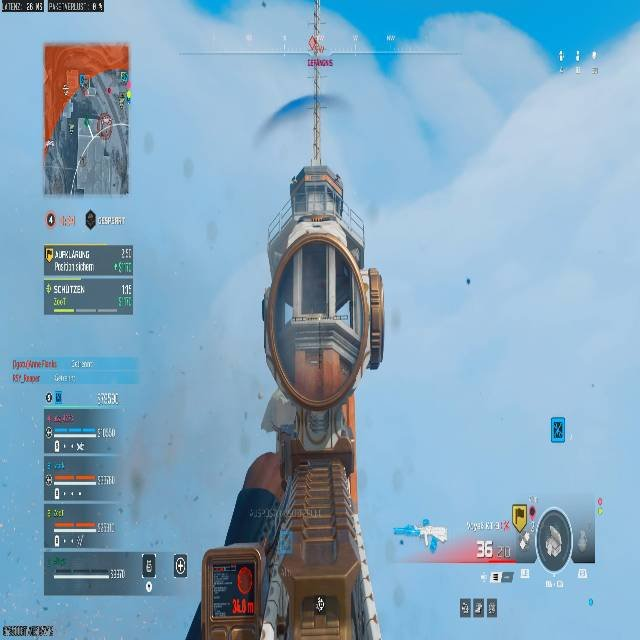head: (260, 163, 380, 406), (287, 162, 344, 214)
player: (216, 57, 385, 640)
